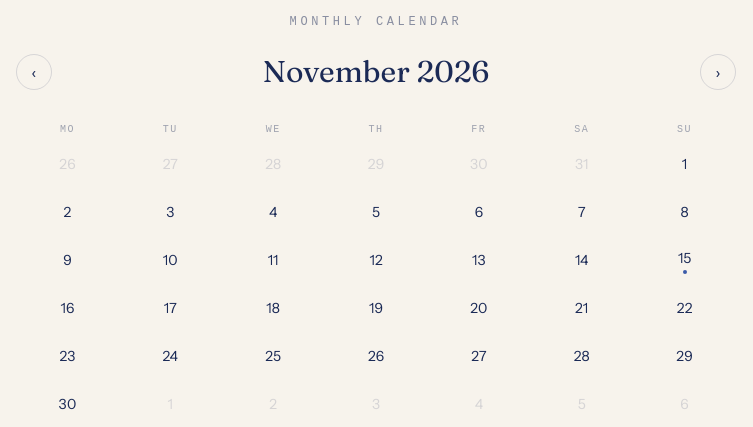
Test case: CalendarGrid › navigates to the next month
The image size is (753, 427).
Click the button named "Next month": (718, 72) [700,54,736,90]
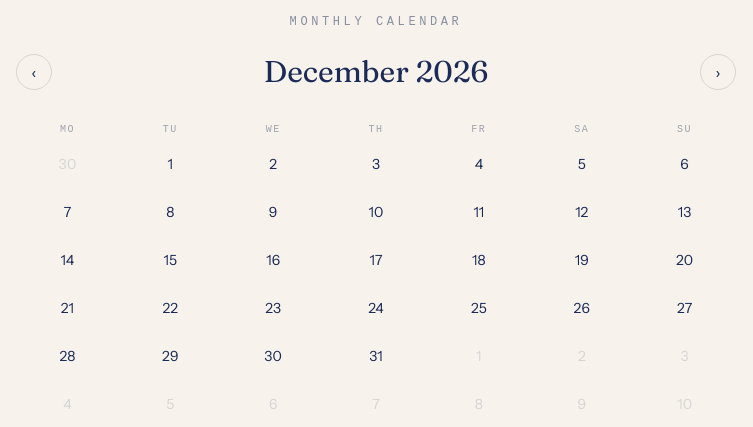
Expected: the heading "December 2026" is shown, [264,54,488,90]
